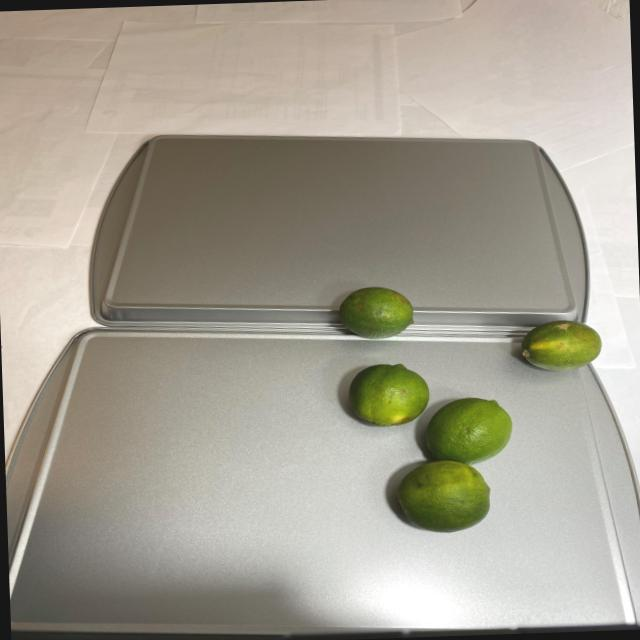lemon: (327, 274, 514, 538), (515, 320, 605, 370)
